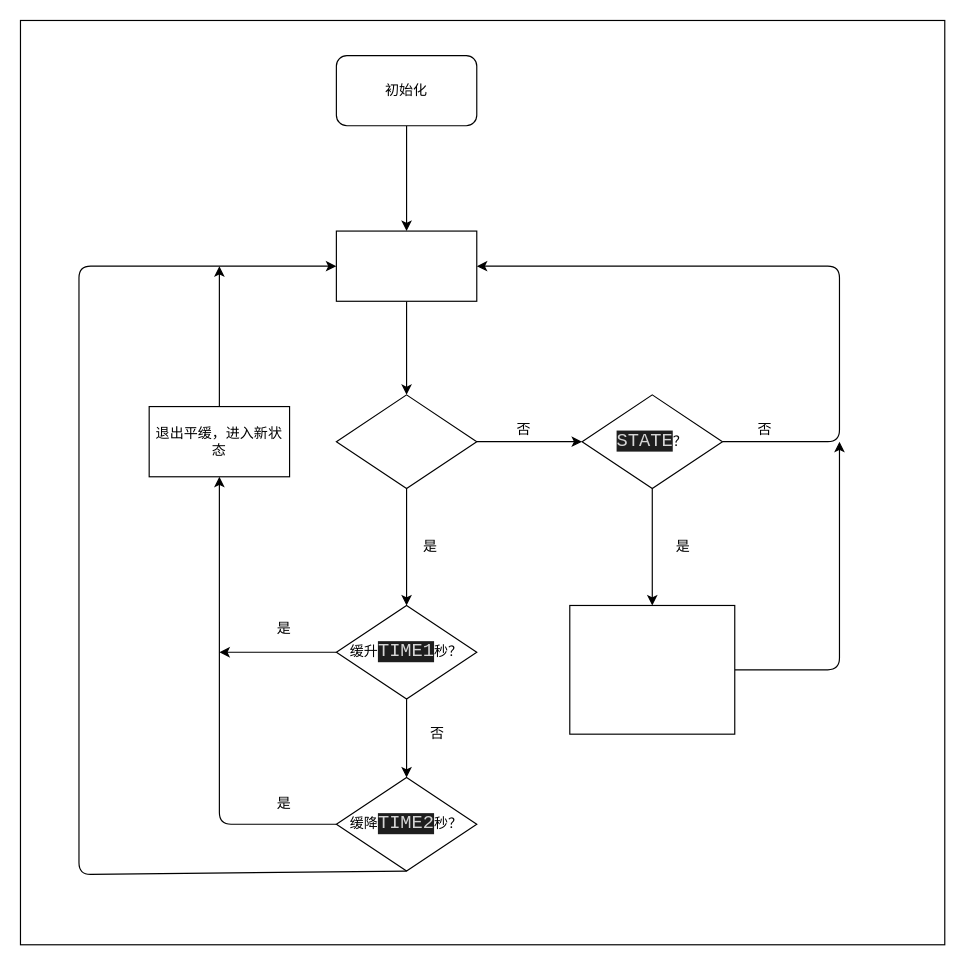
Some shapes in this 965 by 965 pixel diagram are drawn without their labels. The shapes that lost their labels are listed below. From the top down, each one's centre as x and y in pixels, then its label:
At (406,265): "获取温度".
At (406,441): "平缓状态？".
At (652,669): "进入平缓，温度 TEMP1 度到 TEMP2 度烟机开 GEAR1 档，小于 TEMP1 度开 GEAR2 档".
